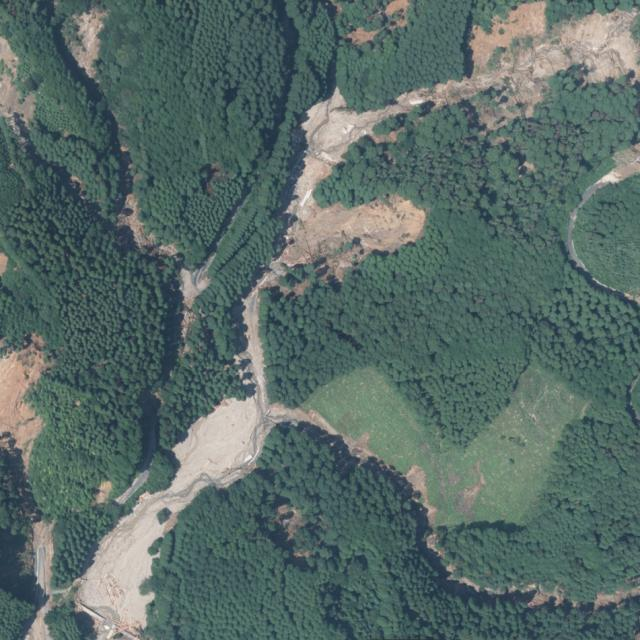landslide: (77, 2, 640, 635)
